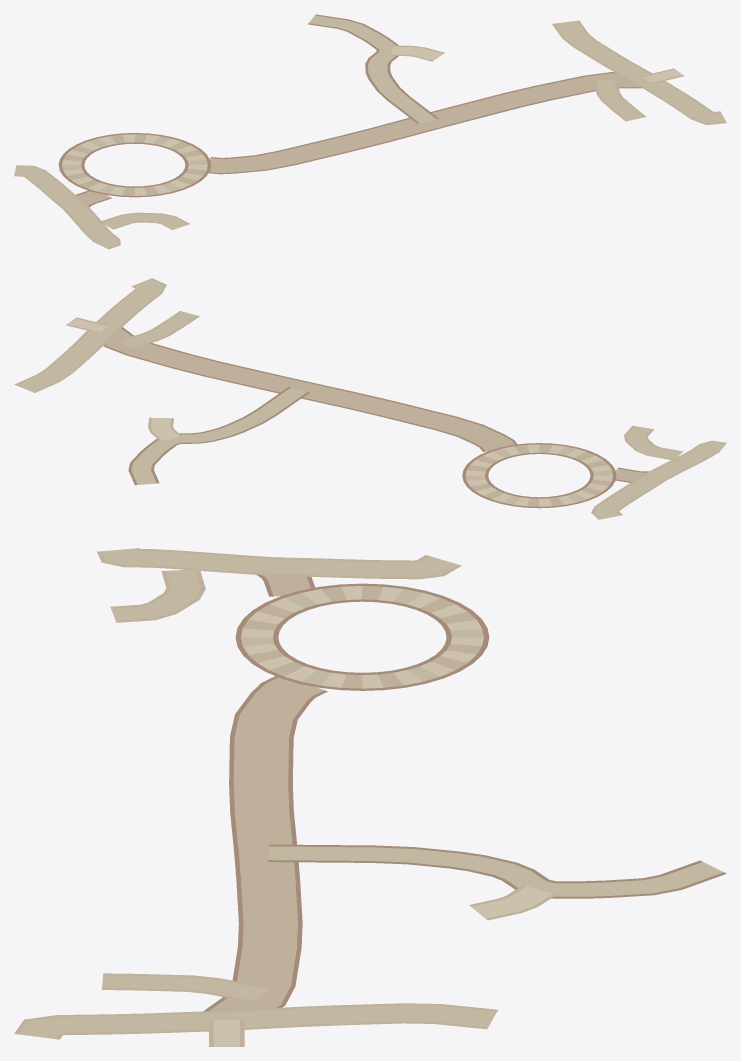
The picture shows the model from 3 angles, top to bottom: view 1: azimuth 30°, elevation 25°; view 2: azimuth 150°, elevation 25°; view 3: azimuth 270°, elevation 25°; orthographic projection. The views are drawn at different scales.
Parts seen in each view (by area): view 1: Main Promenade, Wish Fountain - Stone Ring, West Residential Lane, Harbor Approach, Cafe Forecourt, East Residential Lane, Northwest Ramp Approach, Northeast Ramp Approach, Cottage Walk; view 2: Main Promenade, Wish Fountain - Stone Ring, West Residential Lane, Harbor Approach, Cafe Forecourt, East Residential Lane, Northwest Ramp Approach, Northeast Ramp Approach, Cottage Walk; view 3: Main Promenade, Wish Fountain - Stone Ring, West Residential Lane, Harbor Approach, Cafe Forecourt, East Residential Lane, Northwest Ramp Approach, Northeast Ramp Approach, Cottage Walk, West Porches, East Plaza Approach.
Boxes of the visible parts, x1,y1,x2,y2 form: Main Promenade: (208,72,641,174); Wish Fountain - Stone Ring: (58,133,210,197); West Residential Lane: (552,20,726,124); Harbor Approach: (308,14,438,123); Cafe Forecourt: (14,165,85,208); East Residential Lane: (62,204,120,249); Northwest Ramp Approach: (593,79,646,121); Northeast Ramp Approach: (102,212,189,229); Cottage Walk: (391,45,444,61); Main Promenade: (103,327,517,451); Wish Fountain - Stone Ring: (462,443,616,508); West Residential Lane: (14,278,166,392); Harbor Approach: (128,387,309,485); Cafe Forecourt: (591,474,665,519); East Residential Lane: (645,440,726,480); Northwest Ramp Approach: (118,311,199,348); Northeast Ramp Approach: (624,425,682,459); Cottage Walk: (148,417,181,440); Main Promenade: (203,676,327,1011); Wish Fountain - Stone Ring: (235,583,489,690); West Residential Lane: (14,1003,497,1039); Harbor Approach: (268,844,726,898); Cafe Forecourt: (271,555,461,579); East Residential Lane: (97,548,275,575); Northwest Ramp Approach: (102,973,269,1002); Northeast Ramp Approach: (110,570,205,622); Cottage Walk: (469,885,556,920); West Porches: (209,1020,244,1046); East Plaza Approach: (257,567,314,596).
Size of the model in its own units: 43.51 by 0.028 by 26.28.
